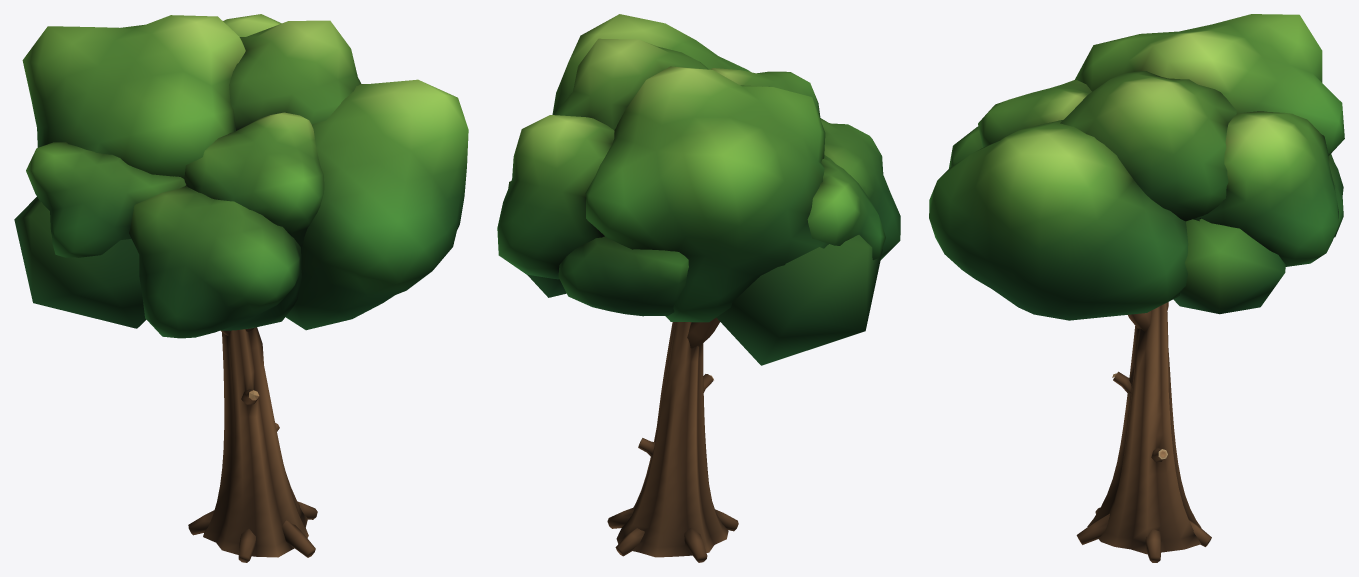
The model's file is tree-standing-c-v2.glb.
3 renders of one model, left to right at view 1: azimuth 30°, elevation 25°; view 2: azimuth 150°, elevation 25°; view 3: azimuth 270°, elevation 25°, orthographic. The views are drawn at different scales.
Parts seen in each view (by area): view 1: 1_leaves, 0_trunk; view 2: 1_leaves, 0_trunk; view 3: 1_leaves, 0_trunk.
Boxes of the visible parts, x1,y1,x2,y2 form: 1_leaves: (14,14,468,338); 0_trunk: (188,327,317,562); 1_leaves: (497,14,900,365); 0_trunk: (607,317,738,562); 1_leaves: (929,14,1344,320); 0_trunk: (1076,302,1211,562).
Bounding box in the file's own units: 4.95 × 6.51 × 5.07.
